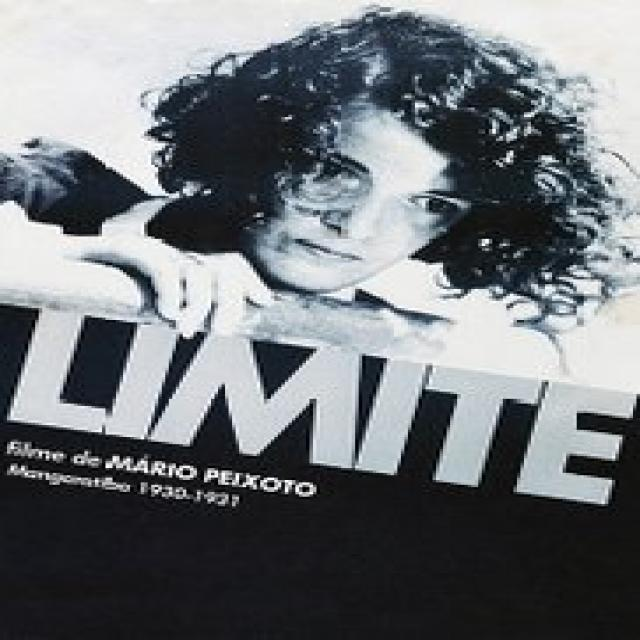movie-judul: (0, 307, 640, 509)
picture: (16, 29, 640, 307)
